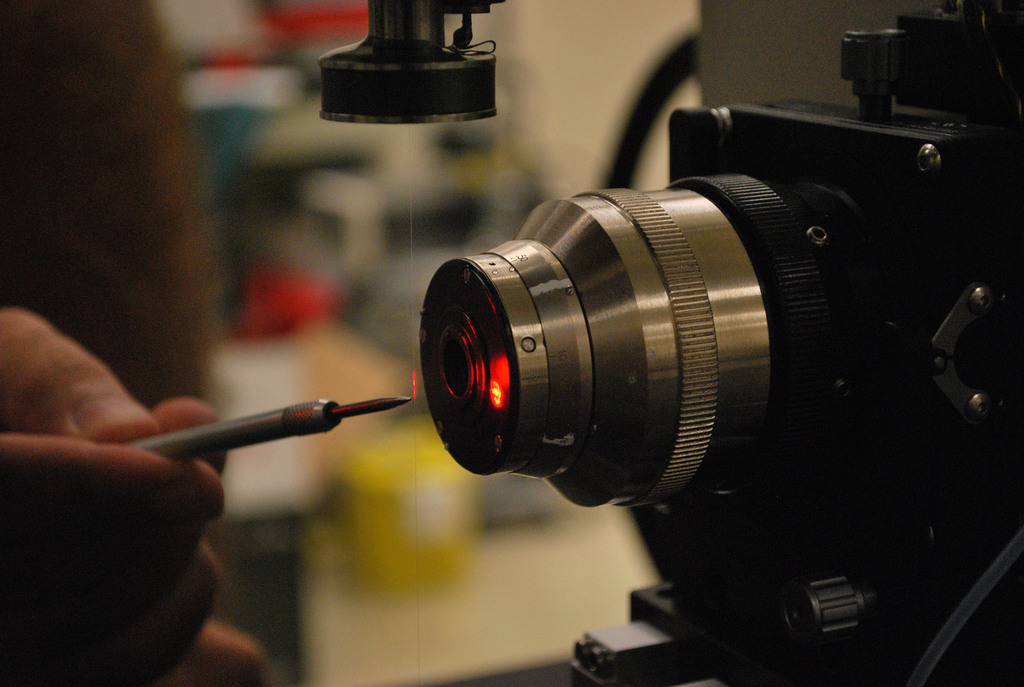Person: (0, 307, 274, 687)
